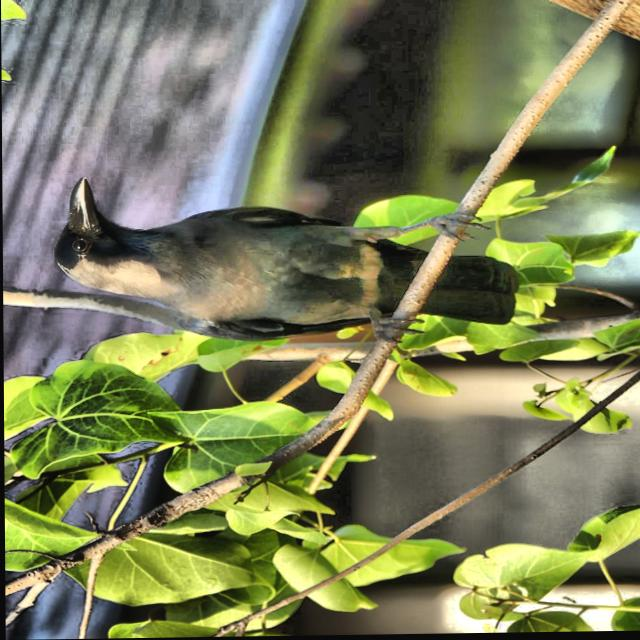crow: (28, 173, 571, 378)
